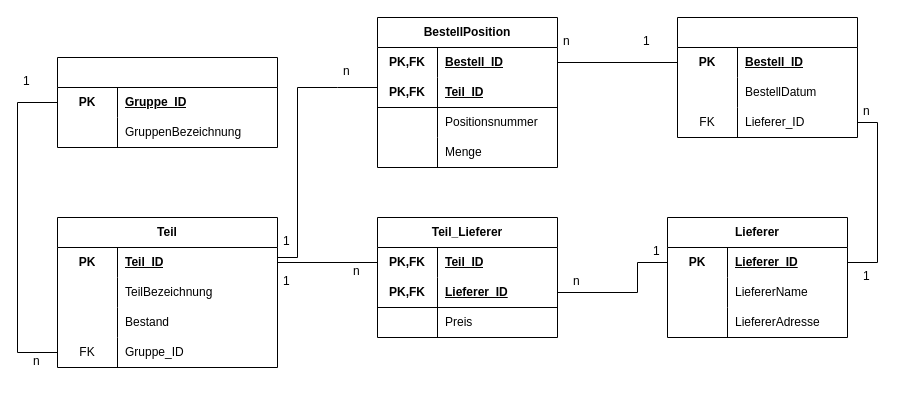
Image size: 915x398. Some labels were removed from this diagram. The box of each missing label's shape, as (x1, y1, x2, y2) in pixels:
Bestellung: (676, 16, 858, 138)
TeilGruppe: (56, 56, 278, 148)
